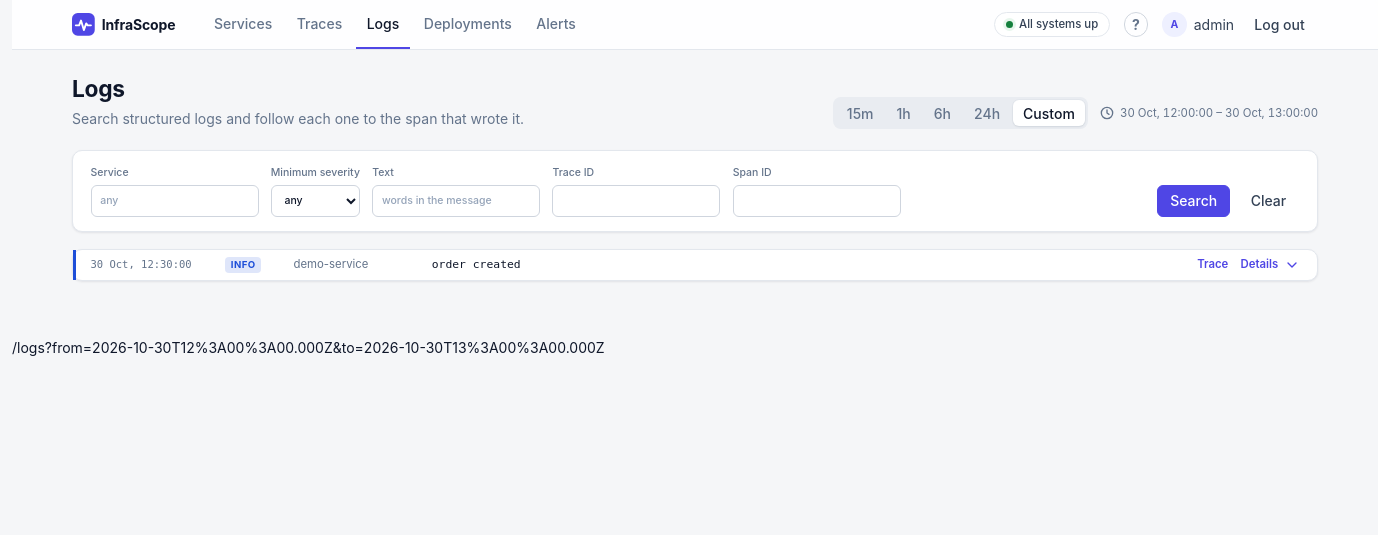
Test: log explorer › expands a record to its full body and attributes
The width and height of the screenshot is (1378, 535).
Click the button "Details".
click(1270, 265)  # box left=1240, top=256, right=1300, bottom=274
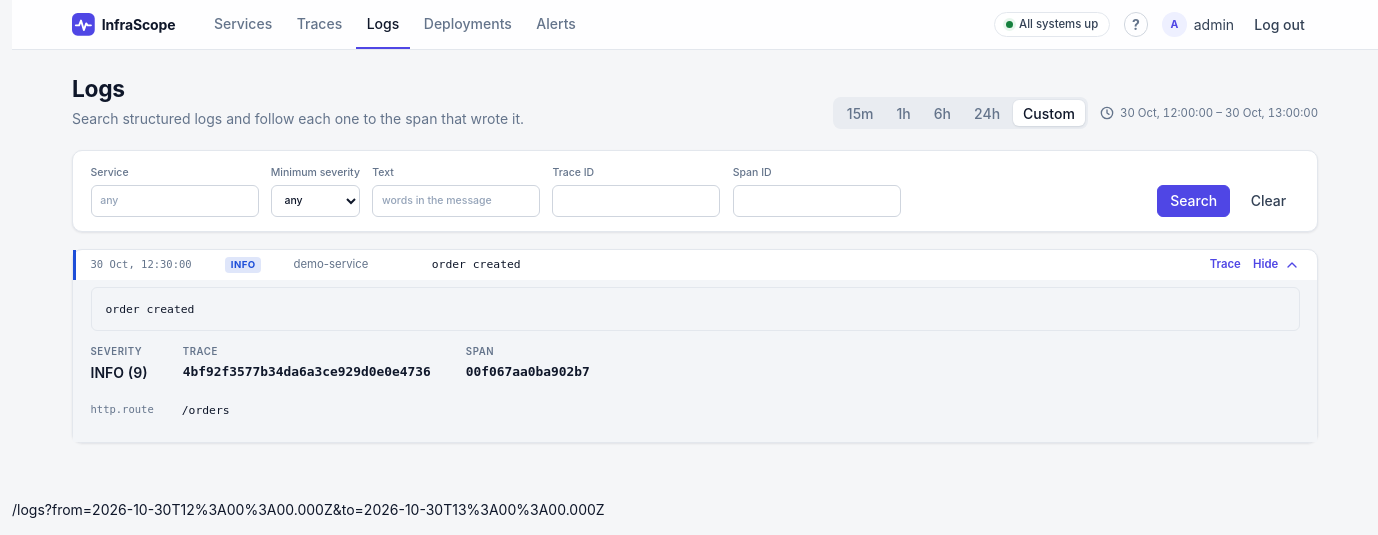
expect the text "/orders" is shown: met, box left=182, top=397, right=1300, bottom=425
expect the text "INFO (9)" is shown: met, box left=90, top=362, right=148, bottom=383
expect the button "Hide" is expanded: met, box left=1253, top=256, right=1300, bottom=274
